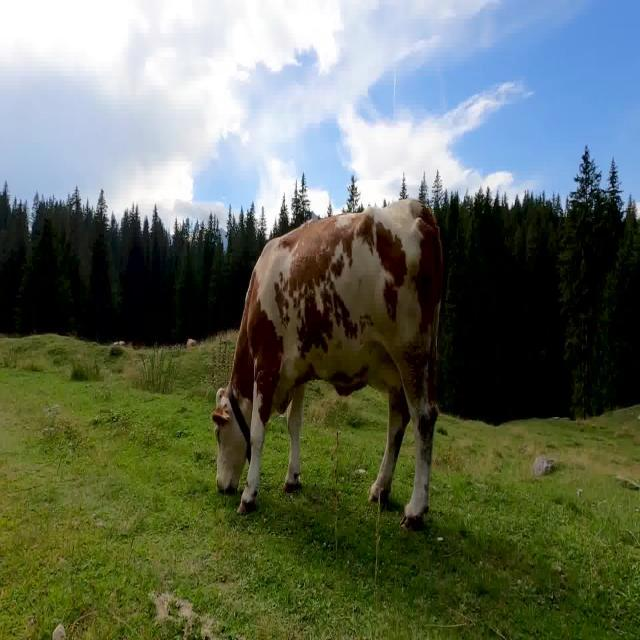cow: (212, 200, 442, 529)
